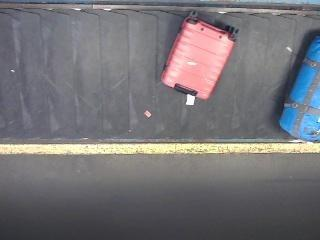Suitcase: (162, 12, 238, 105)
